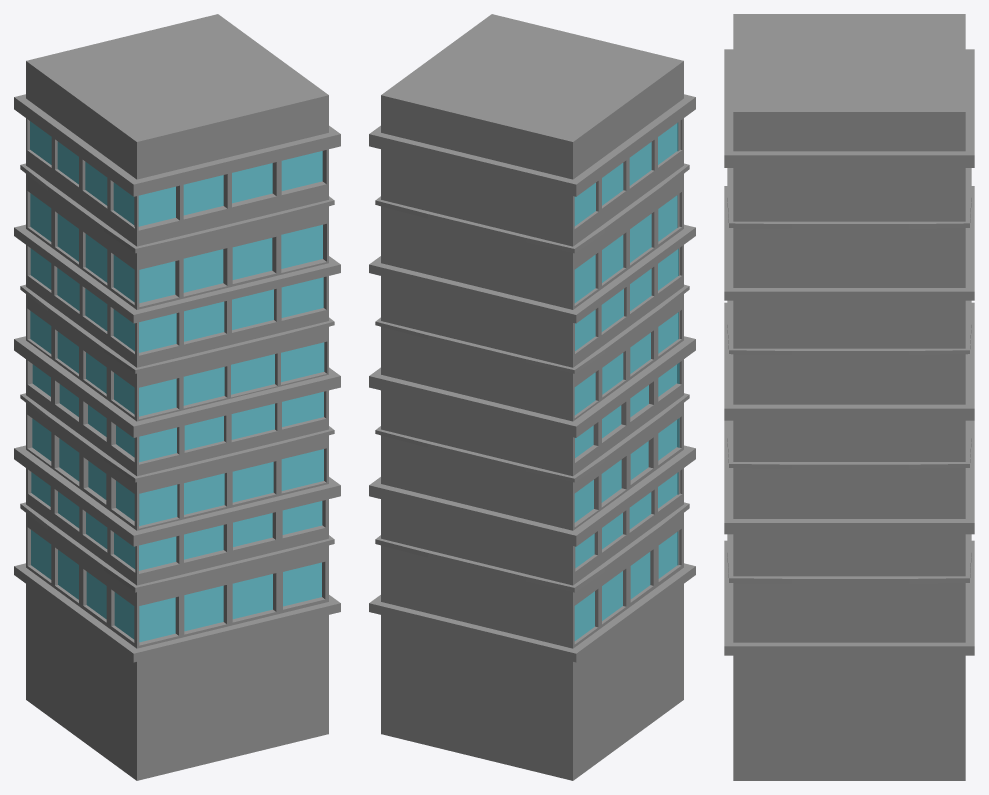
The model's file is building1-2-gray.fbx.
3 renders of one model, left to right at view 1: azimuth 30°, elevation 25°; view 2: azimuth 150°, elevation 25°; view 3: azimuth 270°, elevation 25°, orthographic. The views are drawn at different scales.
Visible parts, largest first — view 1: Cube.001, Cube.002; view 2: Cube.001, Cube.002; view 3: Cube.001.
Boxes of the visible parts, left/top/right/bottom form: Cube.001: left=14, top=14, right=340, bottom=780; Cube.002: left=30, top=121, right=324, bottom=642; Cube.001: left=369, top=14, right=695, bottom=780; Cube.002: left=574, top=122, right=679, bottom=640; Cube.001: left=724, top=14, right=974, bottom=780.
Size of the model in its own units: 212 by 626 by 212.
